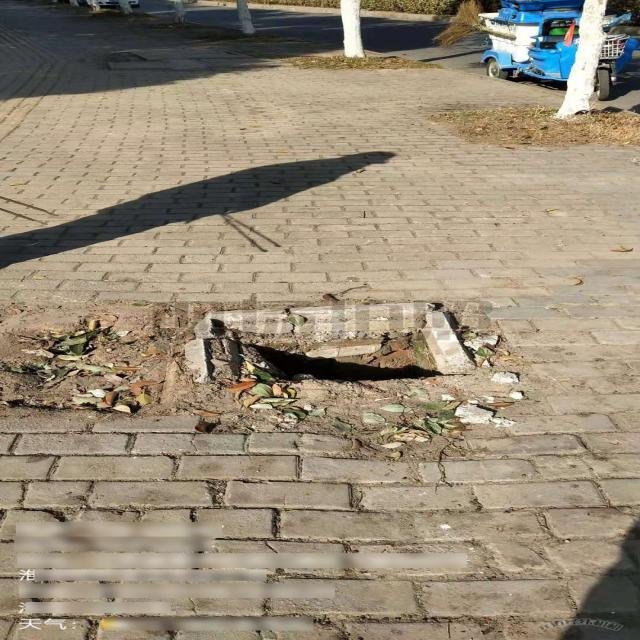Faulty: (189, 303, 493, 387)
